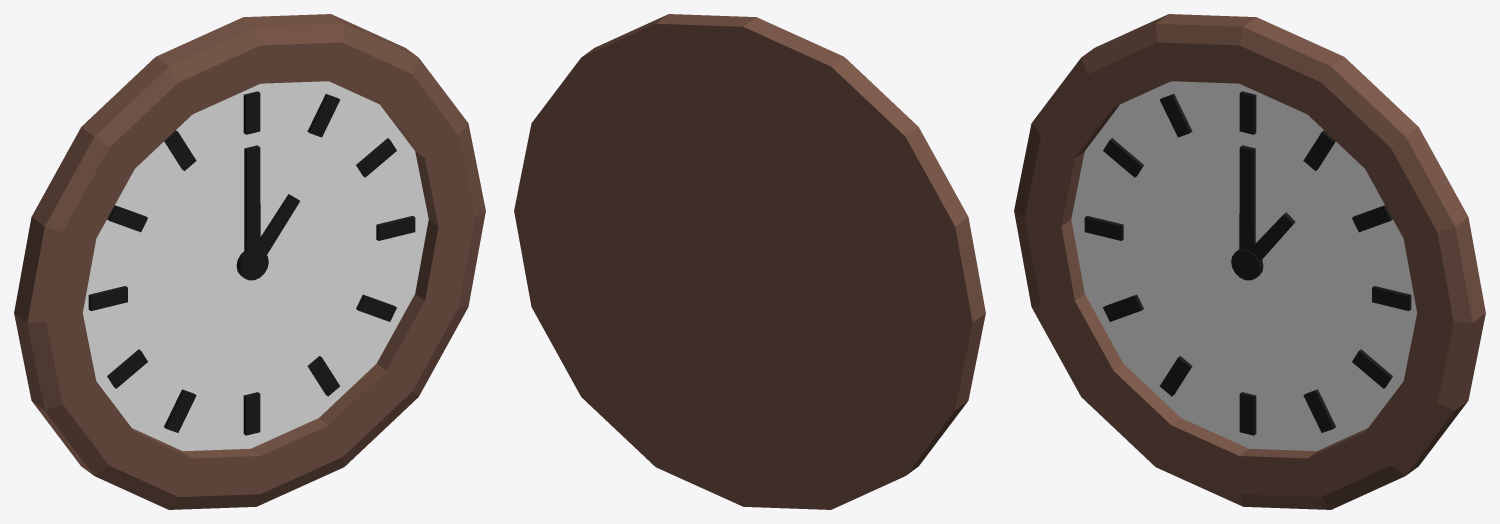
The model's file is Clock.glb.
3 renders of one model, left to right at view 1: azimuth 30°, elevation 25°; view 2: azimuth 150°, elevation 25°; view 3: azimuth 330°, elevation 25°, orthographic.
Visible parts, largest first — view 1: Analog_clock_Circle.001; view 2: Analog_clock_Circle.001; view 3: Analog_clock_Circle.001.
Boxes of the visible parts, x1,y1,x2,y2 form: Analog_clock_Circle.001: (14,14,485,509); Analog_clock_Circle.001: (514,14,985,509); Analog_clock_Circle.001: (1014,14,1485,509).
Bounding box in the file's own units: 10 × 10 × 0.654.
